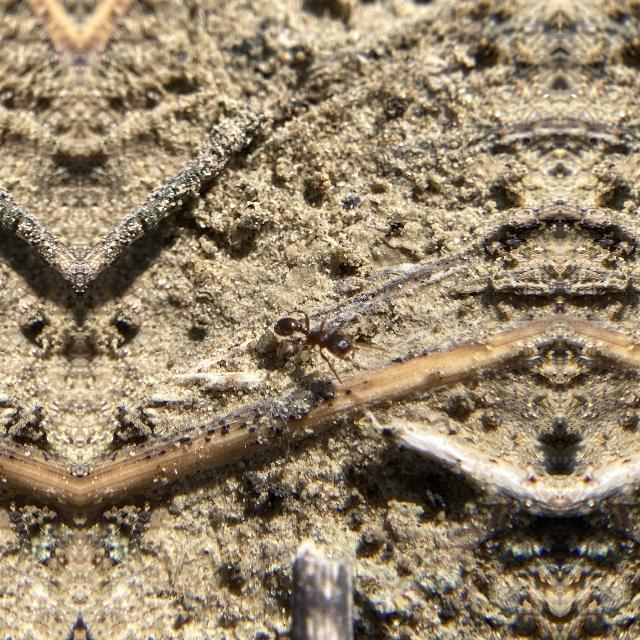Tetramorium: (276, 304, 358, 366)
